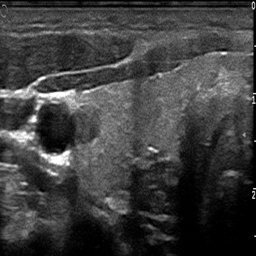mass: (38, 103, 74, 151)
